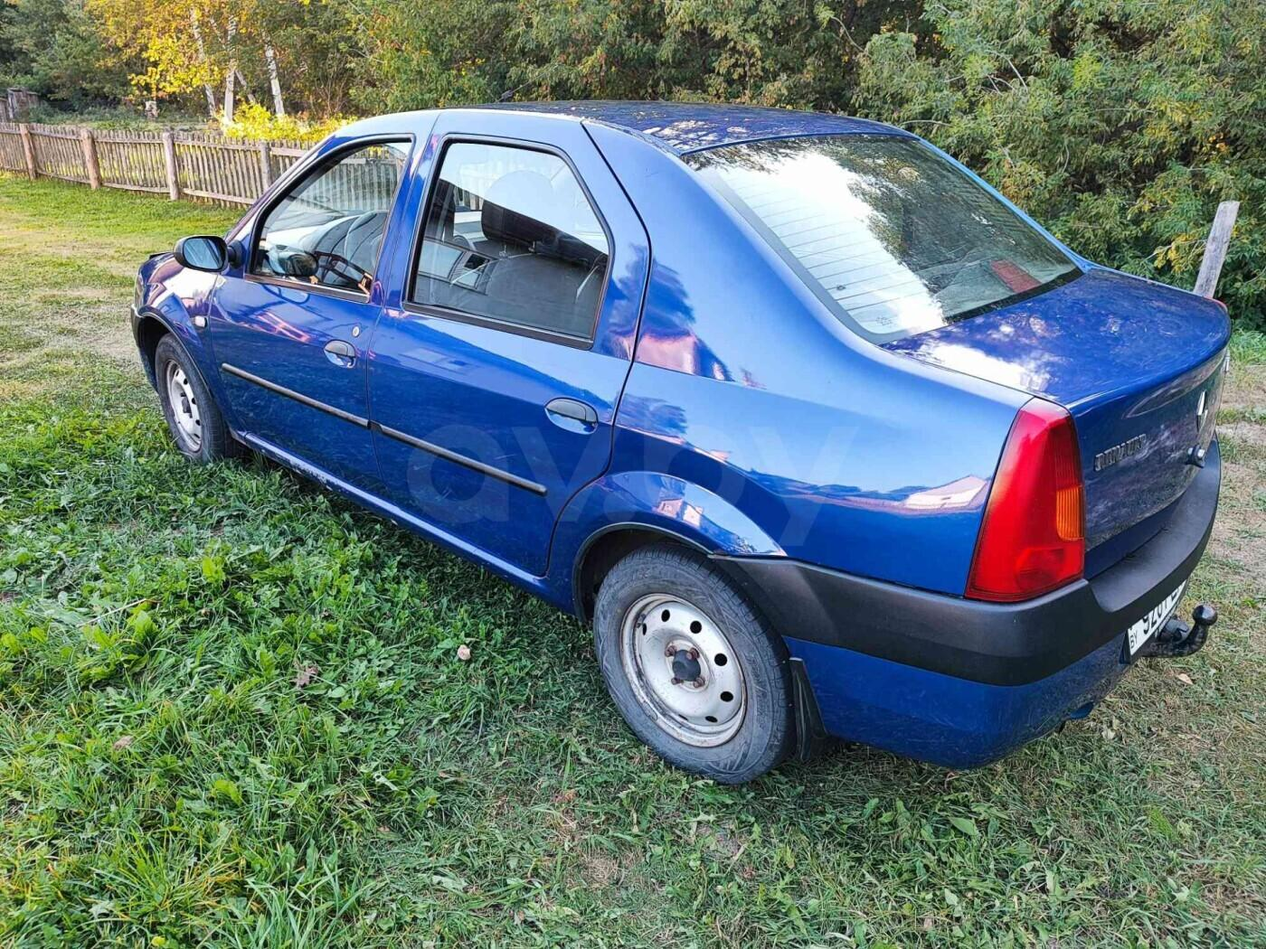Logan_2004-2009: (127, 92, 1234, 789)
